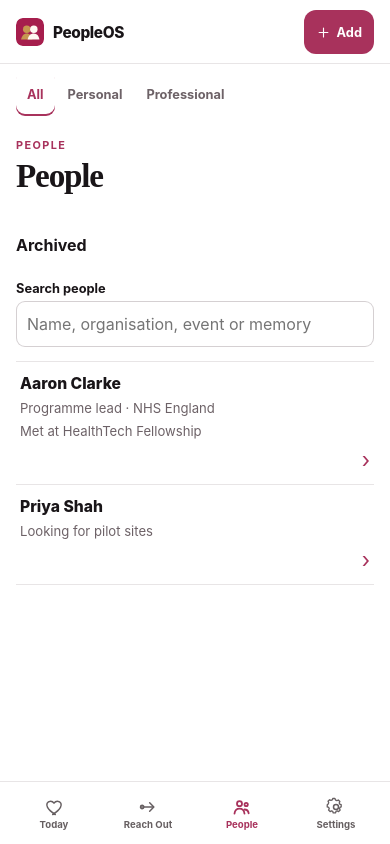
Test: V1-11 People search and filters UI › searches remembered context and explains the highest-ranked Event and Memory Fact matches
Type "HealthTech Fell" into the search field labelled "Search people".
click(195, 324); type("HealthTech Fell")  # box x1=16 y1=302 x2=374 y2=348
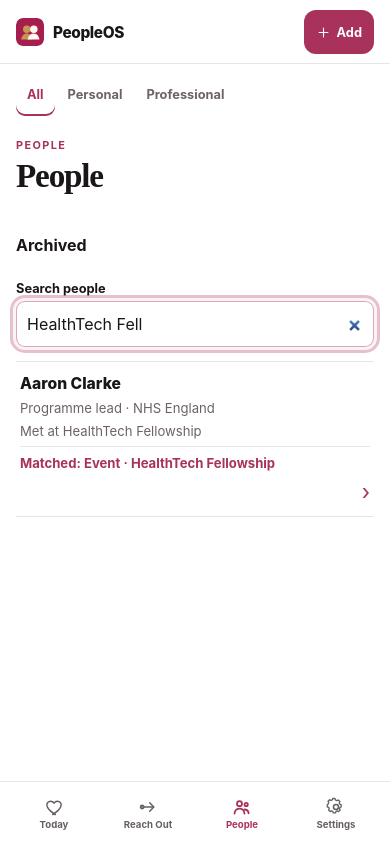
Expected: the text "Aaron Clarke" is shown, x1=20 y1=374 x2=121 y2=394
Expected: the text "Matched: Event · HealthTech Fellowship" is shown, x1=20 y1=446 x2=370 y2=472
Expected: the link "Priya Shah" is gone
Replace the text in the search field labelled "Search people" with "pilot sit" at (195, 324), box x1=16 y1=302 x2=374 y2=348
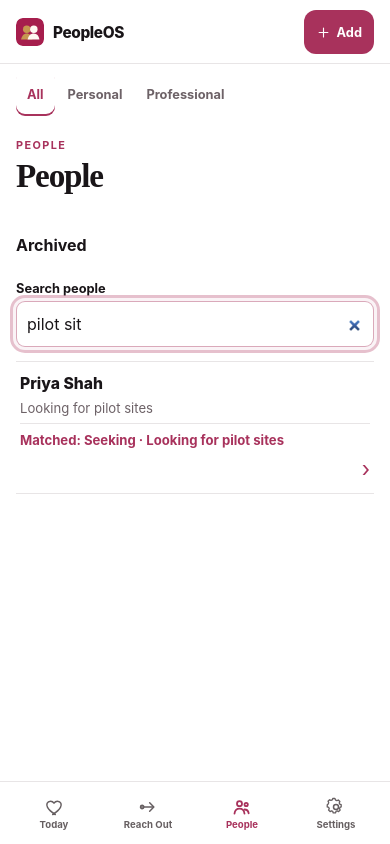
Expected: the text "Matched: Seeking · Looking for pilot sites" is shown, x1=20 y1=424 x2=370 y2=448
Expected: the text "Priya Shah" is shown, x1=20 y1=374 x2=103 y2=394
Expected: the link "Aaron Clarke" is gone
